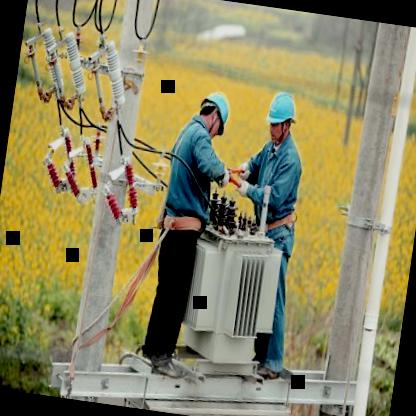helmet: (261, 88, 300, 148), (194, 87, 234, 142)
